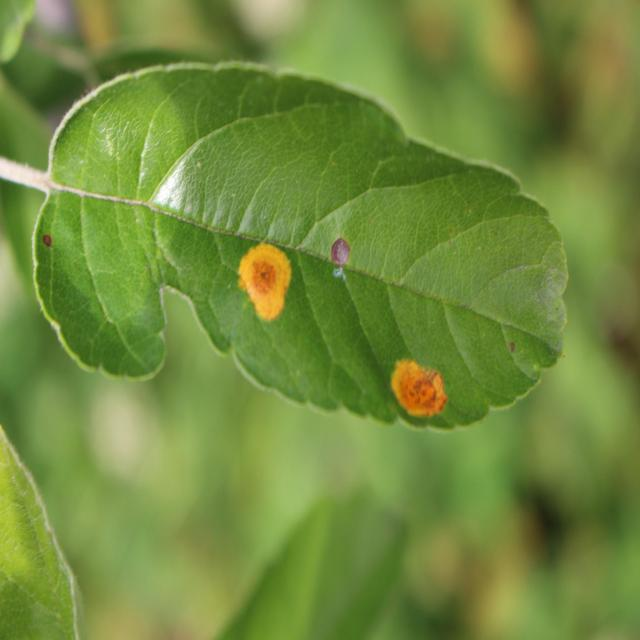Black Rot: (326, 233, 355, 269), (42, 224, 58, 267)
Rust: (230, 235, 298, 328), (384, 351, 451, 431)
